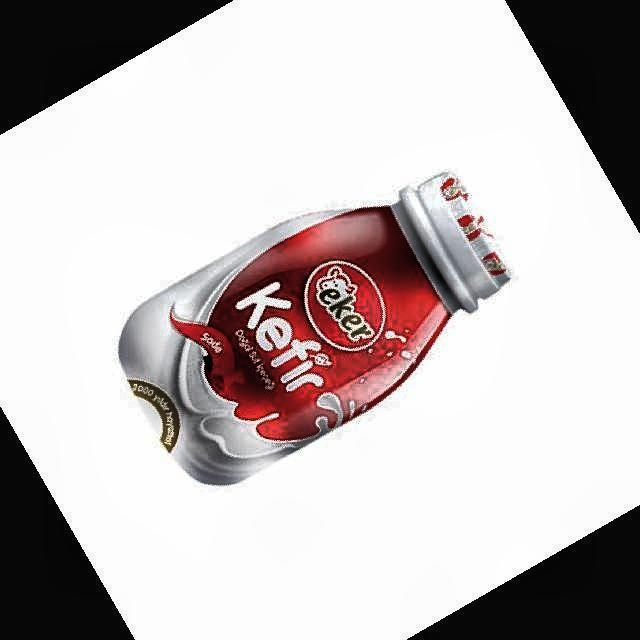plastic: (119, 174, 509, 485)
